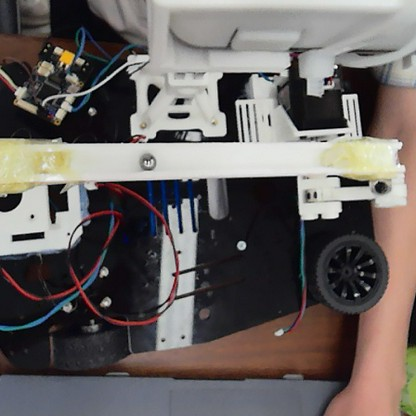ironball: (137, 149, 157, 171)
